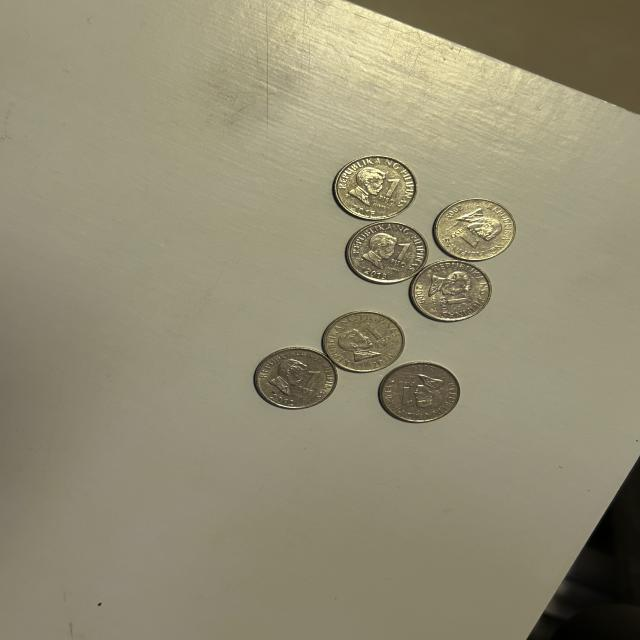1_Old_Front: (360, 319, 392, 353), (446, 228, 481, 255), (435, 292, 472, 316), (391, 380, 417, 413), (293, 368, 321, 398), (379, 175, 401, 210), (391, 238, 409, 271)
